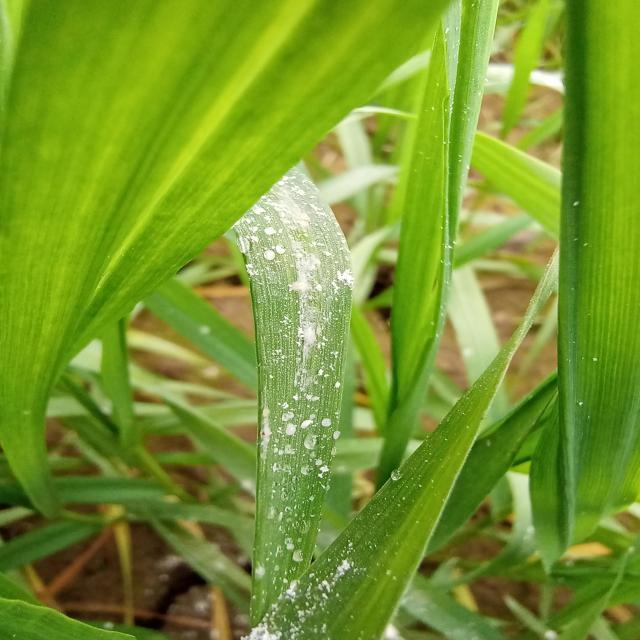Powdery_Mildew: (233, 171, 363, 640)
